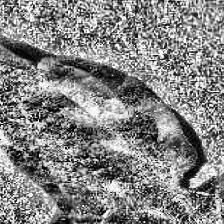leaf mold: (0, 13, 224, 224)
